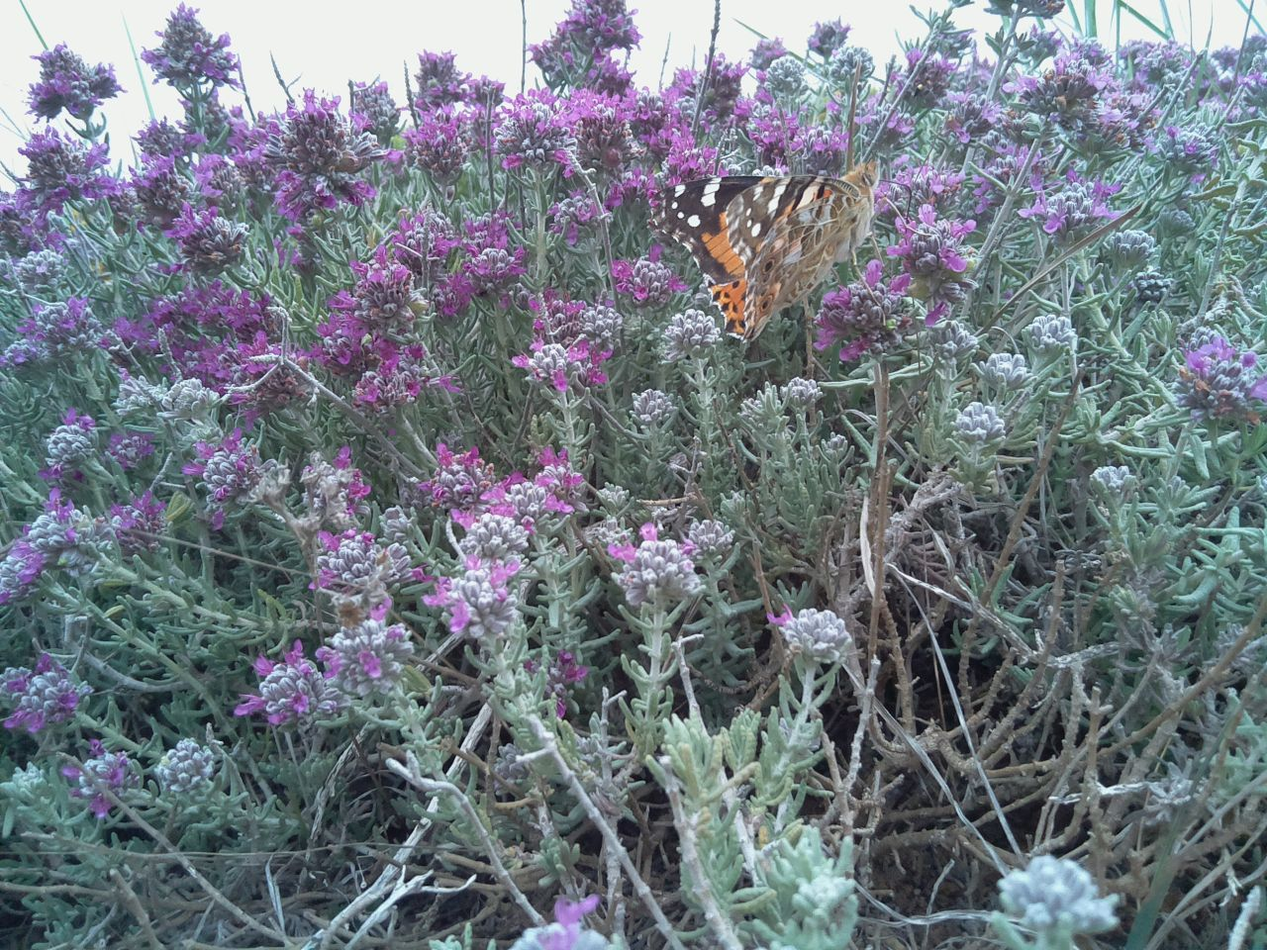Vanessa cardui: (612, 115, 916, 338)
